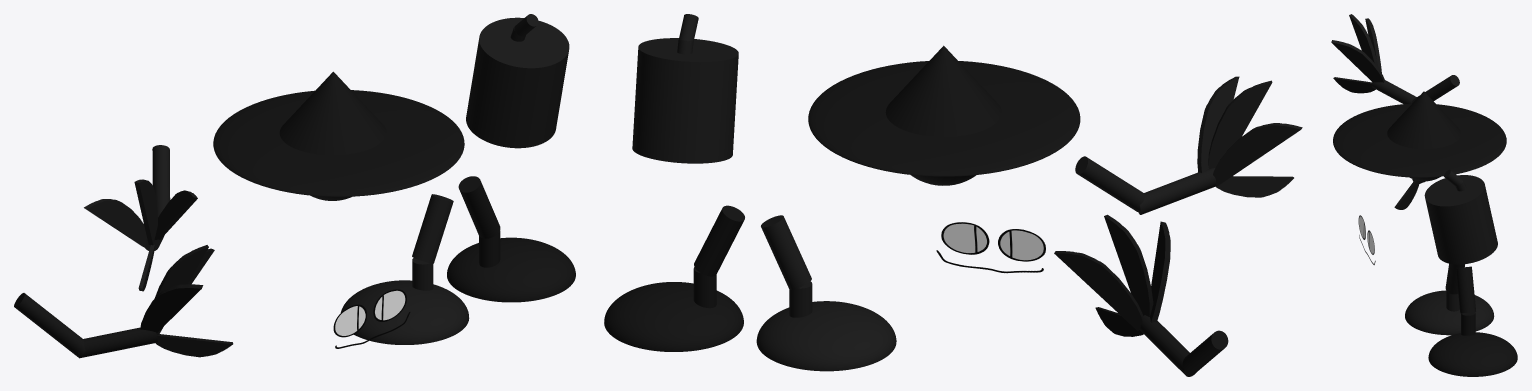
File: darkyou.glb
3 renders of one model, left to right at view 1: azimuth 30°, elevation 25°; view 2: azimuth 150°, elevation 25°; view 3: azimuth 270°, elevation 25°, orthographic. The views are drawn at different scales.
Parts seen in each view (by area): view 1: mesh_id66, mesh_id33, mesh_id159, mesh_id68, mesh_id153, mesh_id253, mesh_id128, mesh_id41, mesh_id115, mesh_id147, mesh_id81, mesh_id53 (+7 smaller); view 2: mesh_id66, mesh_id33, mesh_id153, mesh_id159, mesh_id68, mesh_id253, mesh_id114, mesh_id81, mesh_id88, mesh_id116, mesh_id128, mesh_id147 (+10 smaller); view 3: mesh_id66, mesh_id33, mesh_id159, mesh_id68, mesh_id153, mesh_id94, mesh_id147, mesh_id88, mesh_id47, mesh_id35, mesh_id102, mesh_id128 (+6 smaller).
Part boxes in pixels (bbox=[...]): mesh_id66: bbox=[213, 90, 464, 196]; mesh_id33: bbox=[466, 17, 569, 148]; mesh_id159: bbox=[447, 237, 575, 302]; mesh_id68: bbox=[279, 71, 386, 155]; mesh_id153: bbox=[340, 280, 469, 344]; mesh_id253: bbox=[333, 289, 410, 348]; mesh_id128: bbox=[412, 194, 453, 263]; mesh_id41: bbox=[14, 293, 85, 357]; mesh_id115: bbox=[140, 284, 203, 333]; mesh_id147: bbox=[458, 176, 500, 238]; mesh_id81: bbox=[84, 199, 146, 247]; mesh_id53: bbox=[78, 327, 157, 358]; mesh_id66: bbox=[808, 61, 1080, 176]; mesh_id33: bbox=[632, 38, 738, 163]; mesh_id153: bbox=[756, 301, 896, 371]; mesh_id159: bbox=[604, 282, 743, 351]; mesh_id68: bbox=[885, 45, 1001, 136]; mesh_id253: bbox=[936, 222, 1045, 273]; mesh_id114: bbox=[1054, 251, 1143, 330]; mesh_id81: bbox=[1213, 123, 1302, 186]; mesh_id88: bbox=[1208, 80, 1272, 169]; mesh_id116: bbox=[1104, 214, 1153, 316]; mesh_id128: bbox=[761, 215, 811, 289]; mesh_id147: bbox=[694, 205, 744, 276]; mesh_id66: bbox=[1333, 103, 1506, 177]; mesh_id33: bbox=[1424, 175, 1497, 264]; mesh_id159: bbox=[1428, 332, 1517, 376]; mesh_id68: bbox=[1387, 91, 1461, 148]; mesh_id153: bbox=[1405, 290, 1494, 335]; mesh_id94: bbox=[1331, 40, 1384, 82]; mesh_id147: bbox=[1456, 266, 1475, 313]; mesh_id88: bbox=[1349, 14, 1378, 67]; mesh_id47: bbox=[1371, 80, 1416, 104]; mesh_id35: bbox=[1412, 75, 1459, 103]; mesh_id102: bbox=[1333, 77, 1375, 93]; mesh_id128: bbox=[1445, 263, 1465, 294].
Bounding box in the file's own units: 1.23 × 0.5925 × 0.5138.
Materials: 25 (25 with a texture image).
